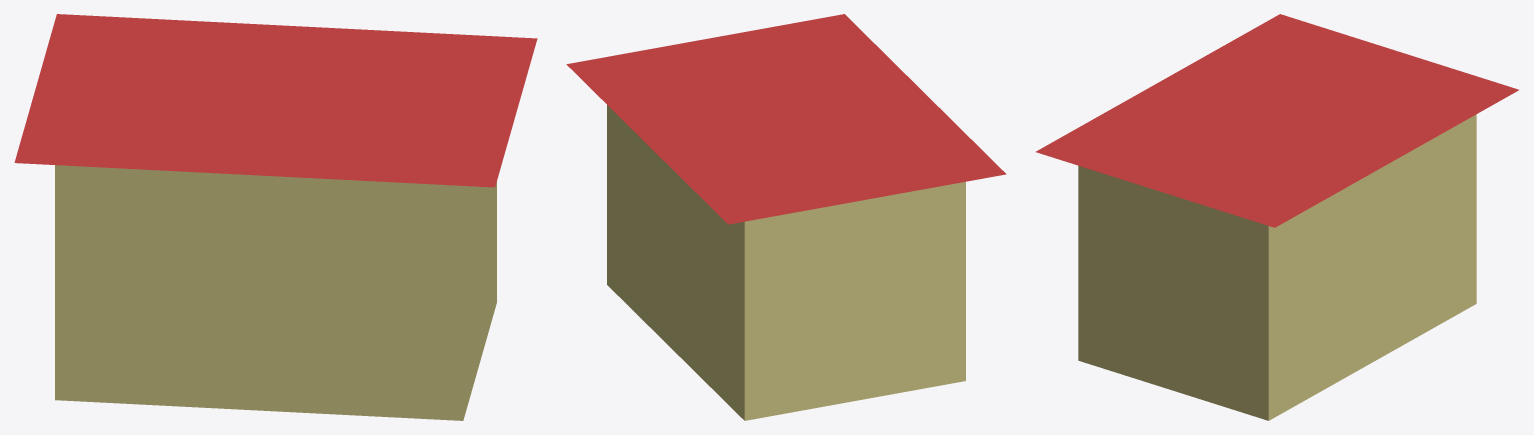
The picture shows the model from 3 angles, left to right: view 1: azimuth 30°, elevation 25°; view 2: azimuth 150°, elevation 25°; view 3: azimuth 270°, elevation 25°; orthographic projection. The views are drawn at different scales.
Visible parts, largest first — view 1: group_5, group_3, group_4; view 2: group_5, group_3, group_4; view 3: group_5, group_3, group_4.
Part boxes in pixels (<box>): group_5: <box>55,165,496,420</box>; group_3: <box>14,14,537,187</box>; group_4: <box>15,14,537,187</box>; group_5: <box>607,105,965,420</box>; group_3: <box>567,14,1005,224</box>; group_4: <box>566,14,1006,224</box>; group_5: <box>1078,114,1476,420</box>; group_3: <box>1036,14,1518,227</box>; group_4: <box>1036,14,1517,226</box>.
Bounding box in the file's own units: 12.37 × 11.84 × 5.7.
